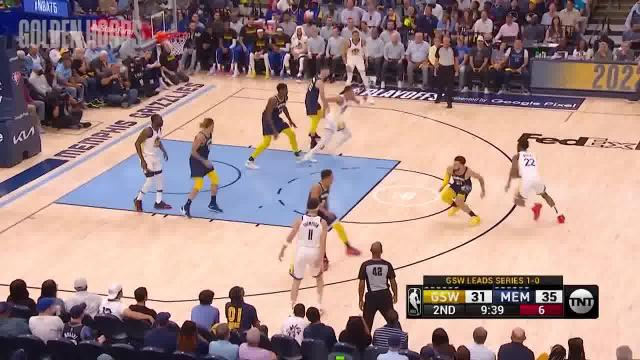ball-handler: (507, 134, 564, 227)
player: (302, 165, 363, 262), (286, 197, 326, 306), (133, 110, 171, 218), (434, 149, 486, 227), (256, 80, 304, 164), (187, 118, 225, 220), (340, 26, 375, 108), (322, 85, 360, 159), (305, 63, 331, 144)
